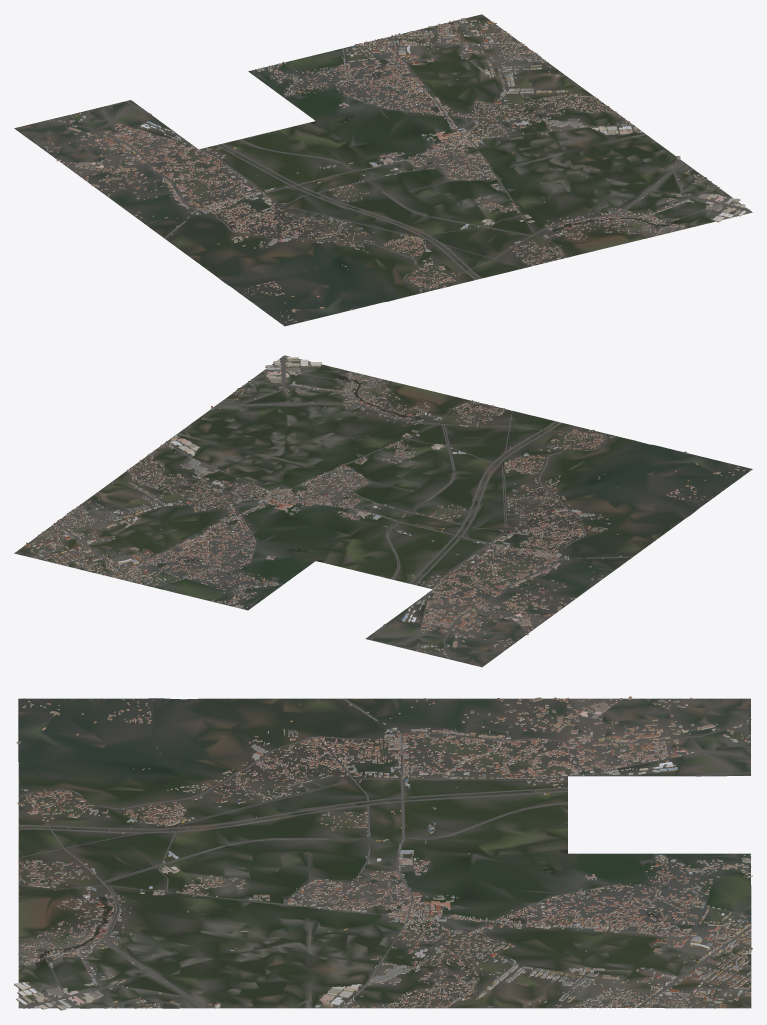
The picture shows the model from 3 angles, top to bottom: view 1: azimuth 30°, elevation 25°; view 2: azimuth 150°, elevation 25°; view 3: azimuth 270°, elevation 25°; orthographic projection. The views are drawn at different scales.
Visible parts, largest first — view 1: ground, buildings, roads, water; view 2: ground, buildings, roads, water; view 3: ground, buildings, roads, water.
Part boxes in pixels (x1,y1,x2,y2): ground: (14,14,752,326); buildings: (36,18,746,324); roads: (70,39,751,290); water: (69,33,726,287); ground: (14,355,752,667); buildings: (24,357,750,658); roads: (56,356,632,648); water: (80,374,654,645); ground: (18,698,751,1008); buildings: (14,696,752,1010); roads: (18,698,751,1008); water: (18,714,750,1008).
Size of the model in its own units: 5662 by 34.56 by 5656.
